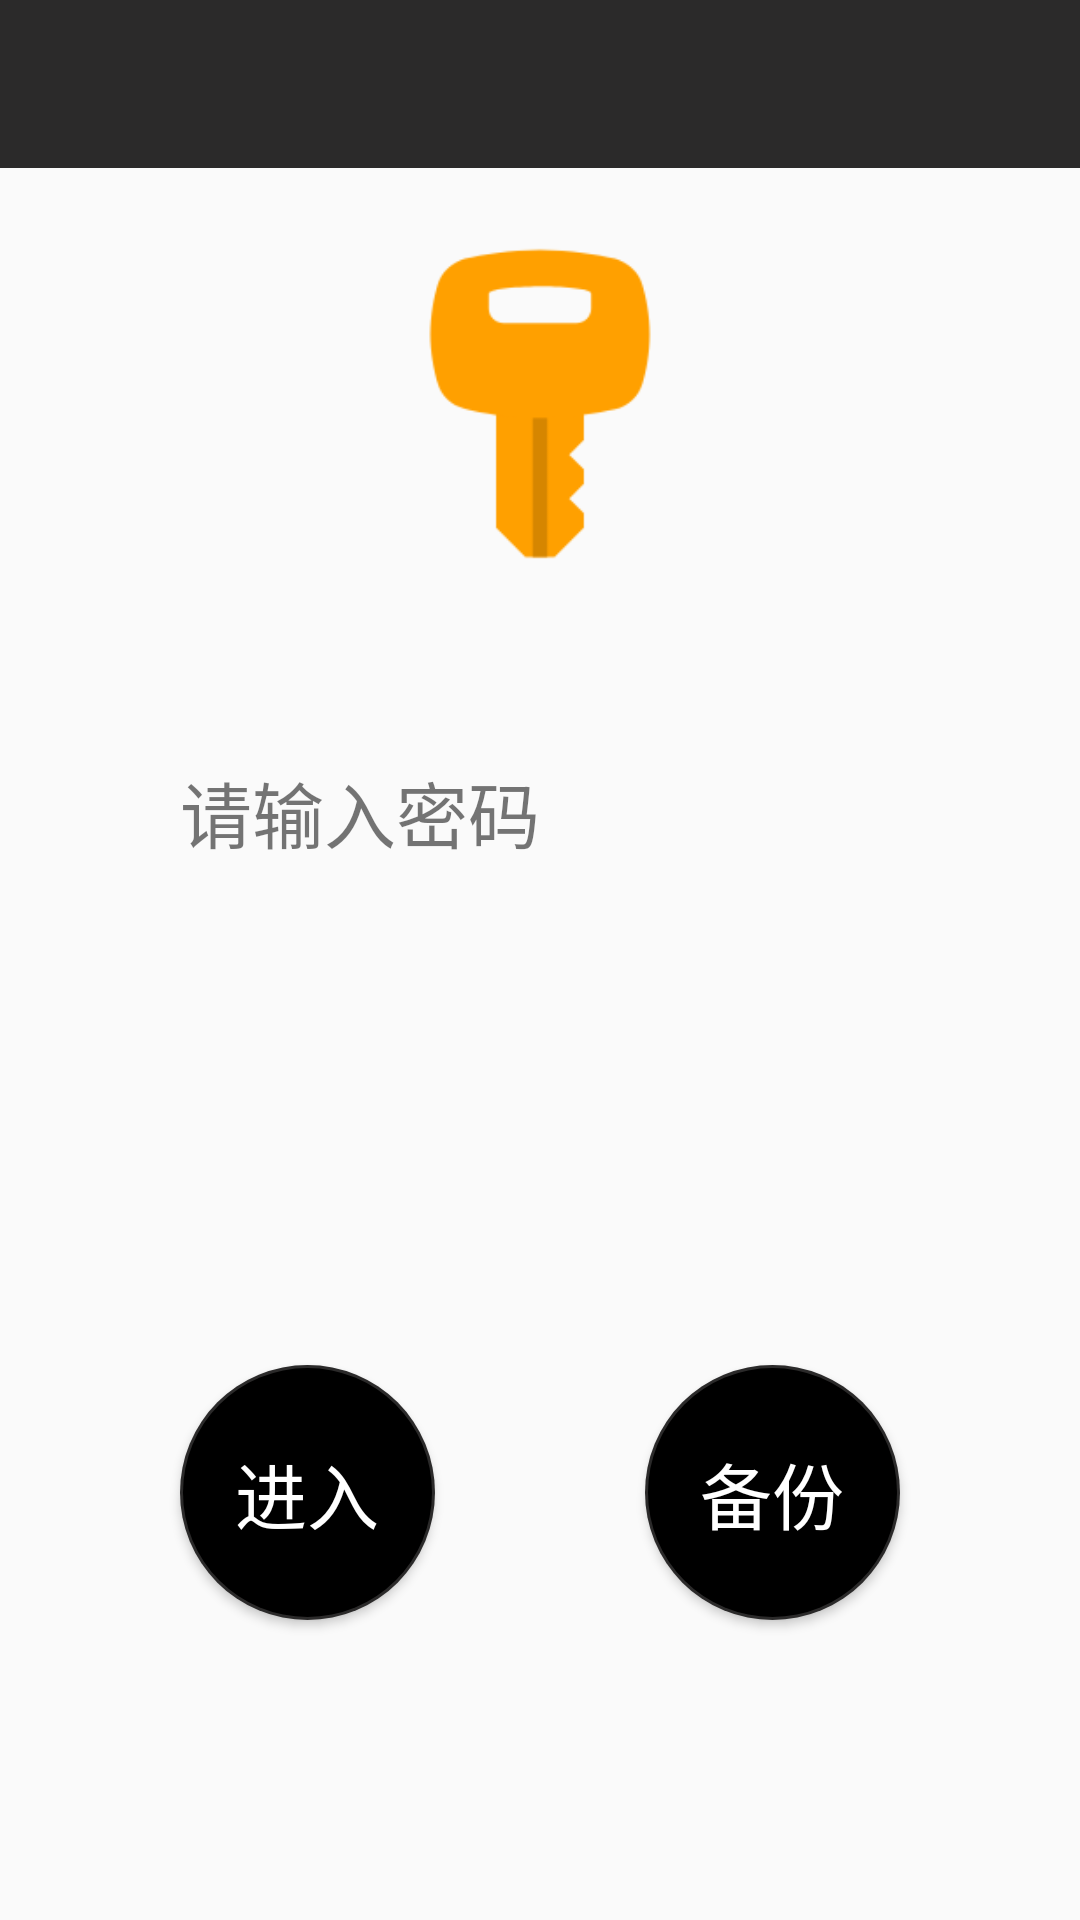

Point at icon controls on the screen. Image size 1080w x 1920h, points as (x=x, y=y).
key: (x=540, y=404)
